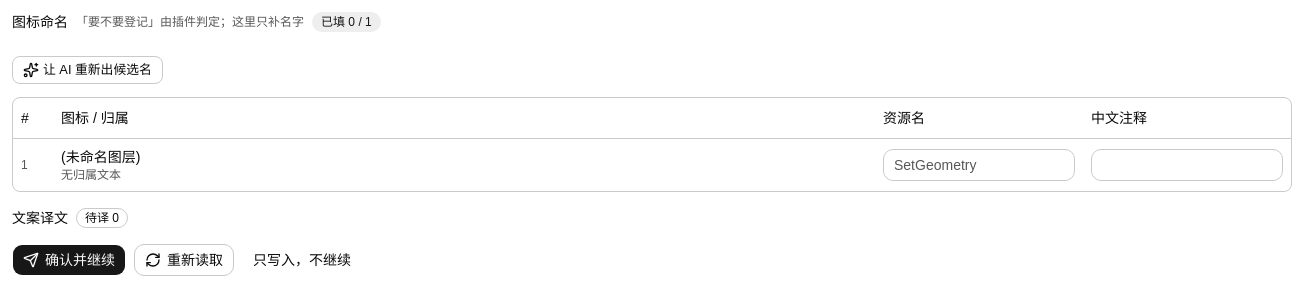
Test: PendingPanel › 手动叫 AI 出候选：候选按同一处口径填进输入框
Click the button "让 AI 重新出候选名". click: click(87, 70)
box: top-left (12, 56), bottom-right (163, 84)
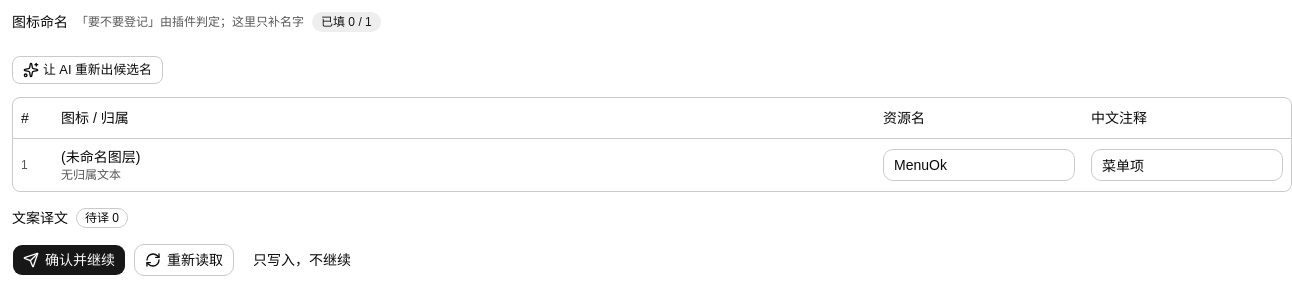
Result: the 1st field showing "MenuOk" is shown at top-left (883, 148), bottom-right (1075, 180)
